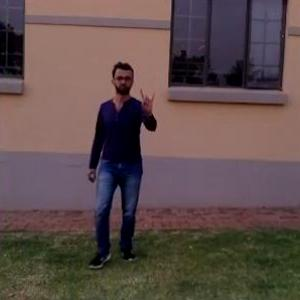takeoff-hand: (134, 84, 162, 118)
